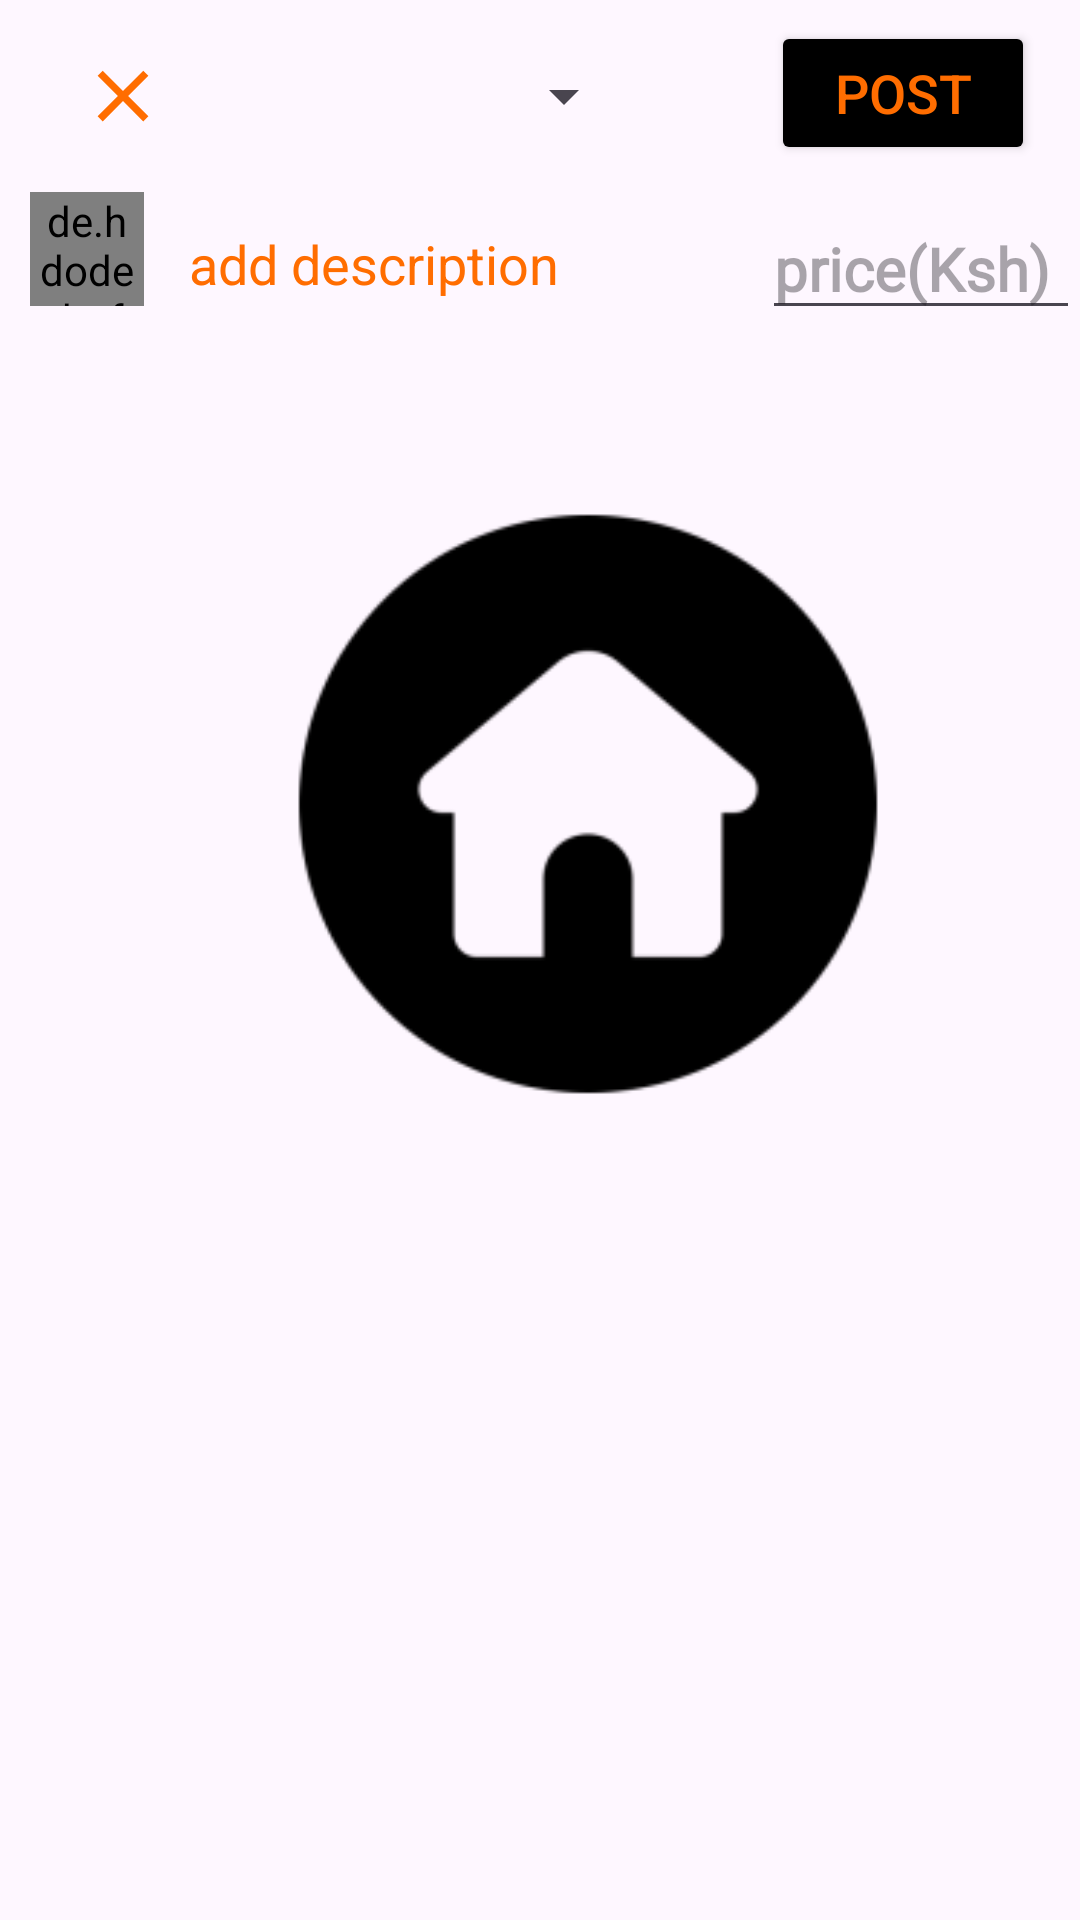

Screen size 1080px x 1920px. Icon name, then its center in pixels as (x,y):
close: (123,96)
